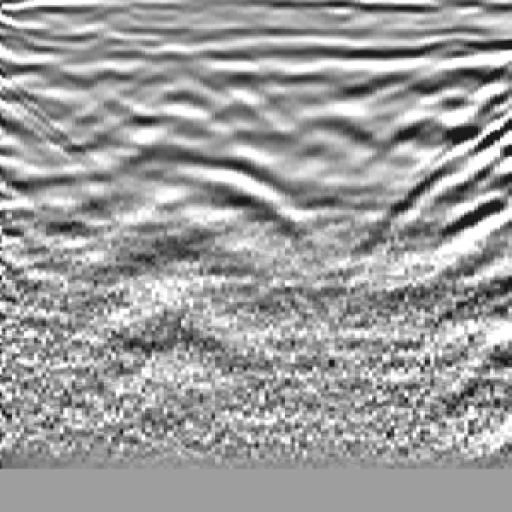metalic: (145, 46, 334, 294)
nonmetalic: (398, 47, 512, 291)
